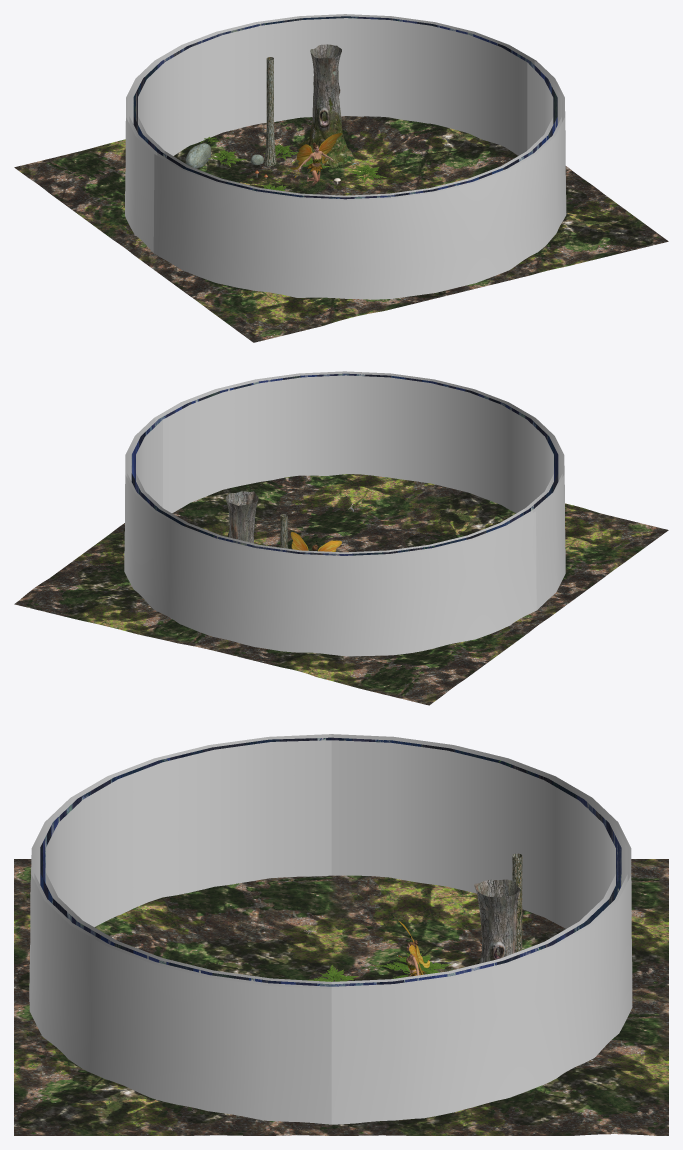
3 views of the same model, one above another, from view 1: azimuth 30°, elevation 25°; view 2: azimuth 150°, elevation 25°; view 3: azimuth 270°, elevation 25° (orthographic). The views are drawn at different scales.
Visible parts, largest first — view 1: TilingTerrain, SkyCentre_Wallsback, SkyRight_Wallsback, Weather_Right, Weather_Centre, Trunk, SkyLeft, SkyLeft_Wallsback, Weather_Left, Weather_Left_Wallsback, Tree, Cloud_Right (+9 smaller); view 2: TilingTerrain, SkyLeft, SkyCentre, Weather_Centre_Wallsback, Weather_Left_Wallsback, SkyRight_Wallsback, SkyRight, Weather_Right, Weather_Right_Wallsback, Trunk, Cloud_Left, Cloud_Left_Wallsback (+8 smaller); view 3: TilingTerrain, SkyLeft_Wallsback, SkyRight, Weather_Right_Wallsback, Weather_Left, SkyCentre_Wallsback, SkyCentre, Weather_Centre, Weather_Centre_Wallsback, Trunk, Cloud_Right_Wallsback, Cloud_Left (+13 smaller).
Part boxes in pixels (bbox=[...]): TilingTerrain: bbox=[14, 116, 668, 342]; SkyCentre_Wallsback: bbox=[345, 154, 537, 299]; SkyRight_Wallsback: bbox=[153, 154, 345, 298]; Weather_Right: bbox=[346, 18, 527, 155]; Weather_Centre: bbox=[164, 18, 345, 155]; Trunk: bbox=[297, 44, 354, 167]; SkyLeft: bbox=[125, 61, 154, 252]; SkyLeft_Wallsback: bbox=[536, 61, 566, 251]; Weather_Left: bbox=[138, 63, 164, 153]; Weather_Left_Wallsback: bbox=[526, 62, 553, 153]; Tree: bbox=[264, 57, 276, 165]; Cloud_Right: bbox=[346, 14, 534, 64]; TilingTerrain: bbox=[14, 474, 668, 705]; SkyLeft: bbox=[345, 511, 536, 656]; SkyCentre: bbox=[153, 511, 344, 656]; Weather_Centre_Wallsback: bbox=[346, 375, 526, 513]; Weather_Left_Wallsback: bbox=[163, 375, 345, 513]; SkyRight_Wallsback: bbox=[536, 418, 565, 609]; SkyRight: bbox=[124, 418, 153, 608]; Weather_Right: bbox=[136, 420, 162, 510]; Weather_Right_Wallsback: bbox=[525, 420, 553, 510]; Trunk: bbox=[225, 491, 258, 543]; Cloud_Left: bbox=[344, 510, 532, 557]; Cloud_Left_Wallsback: bbox=[155, 372, 345, 421]; TilingTerrain: bbox=[14, 859, 668, 1135]; SkyLeft_Wallsback: bbox=[68, 925, 331, 1124]; SkyRight: bbox=[331, 925, 593, 1124]; Weather_Right_Wallsback: bbox=[82, 740, 331, 927]; Weather_Left: bbox=[331, 740, 579, 928]; SkyCentre_Wallsback: bbox=[29, 798, 70, 1058]; SkyCentre: bbox=[592, 798, 632, 1057]; Weather_Centre: bbox=[579, 801, 615, 925]; Weather_Centre_Wallsback: bbox=[46, 800, 82, 924]; Trunk: bbox=[474, 879, 520, 963]; Cloud_Right_Wallsback: bbox=[72, 735, 331, 802]; Cloud_Left: bbox=[331, 735, 589, 803].
Bounding box in the file's own units: 6.27 × 1.6 × 6.27.
